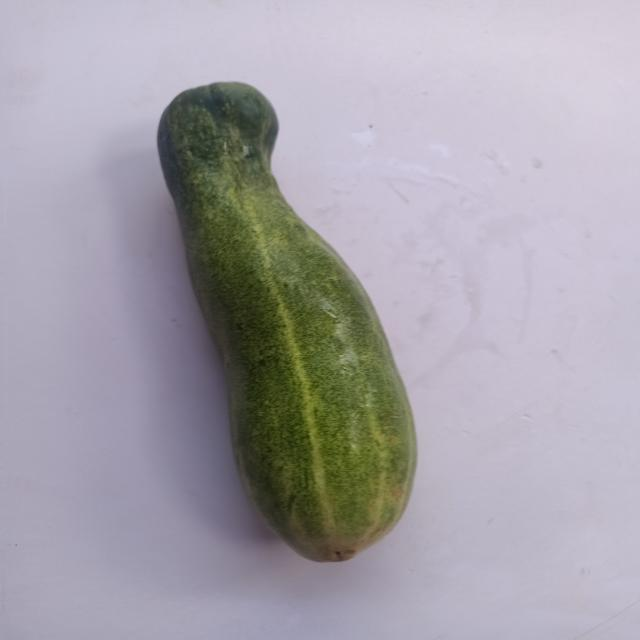Cucumber: (140, 56, 472, 587)
